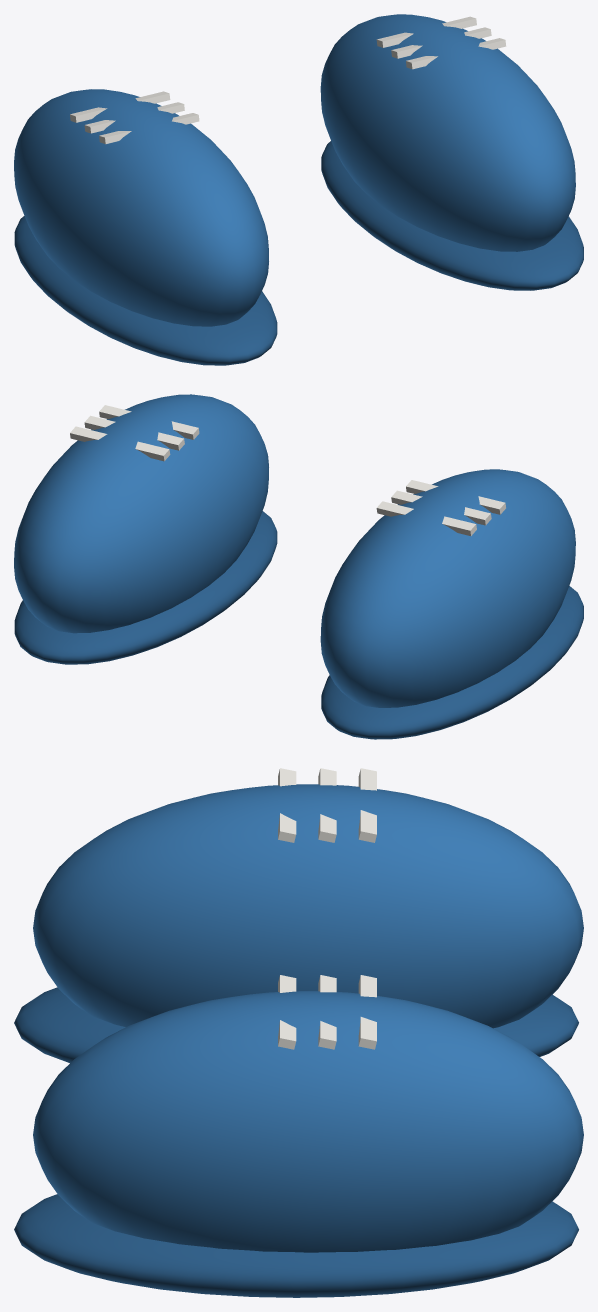
Rendered from male-shoes-Mavi.glb.
The picture shows the model from 3 angles, top to bottom: view 1: azimuth 30°, elevation 25°; view 2: azimuth 150°, elevation 25°; view 3: azimuth 270°, elevation 25°; orthographic projection. The views are drawn at different scales.
Visible parts, largest first — view 1: worn-shoes; view 2: worn-shoes; view 3: worn-shoes.
Part boxes in pixels (x1,y1,x2,y2): worn-shoes: (14,14,583,365); worn-shoes: (14,394,583,739); worn-shoes: (14,768,583,1297).
Size of the model in its own units: 0.318 by 0.124 by 0.24.
